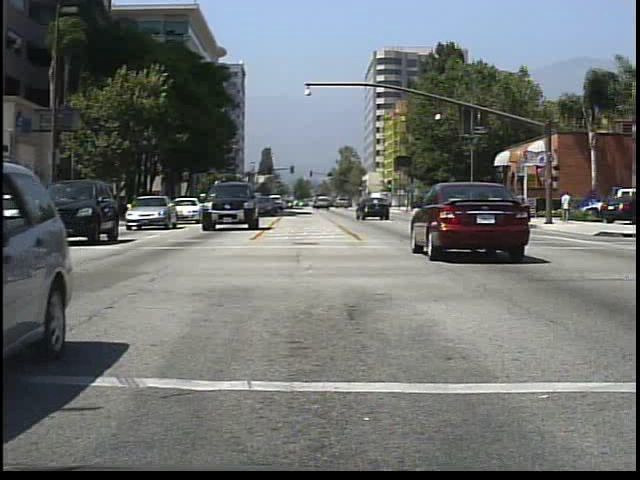person: (512, 190, 529, 227), (558, 189, 575, 224)
